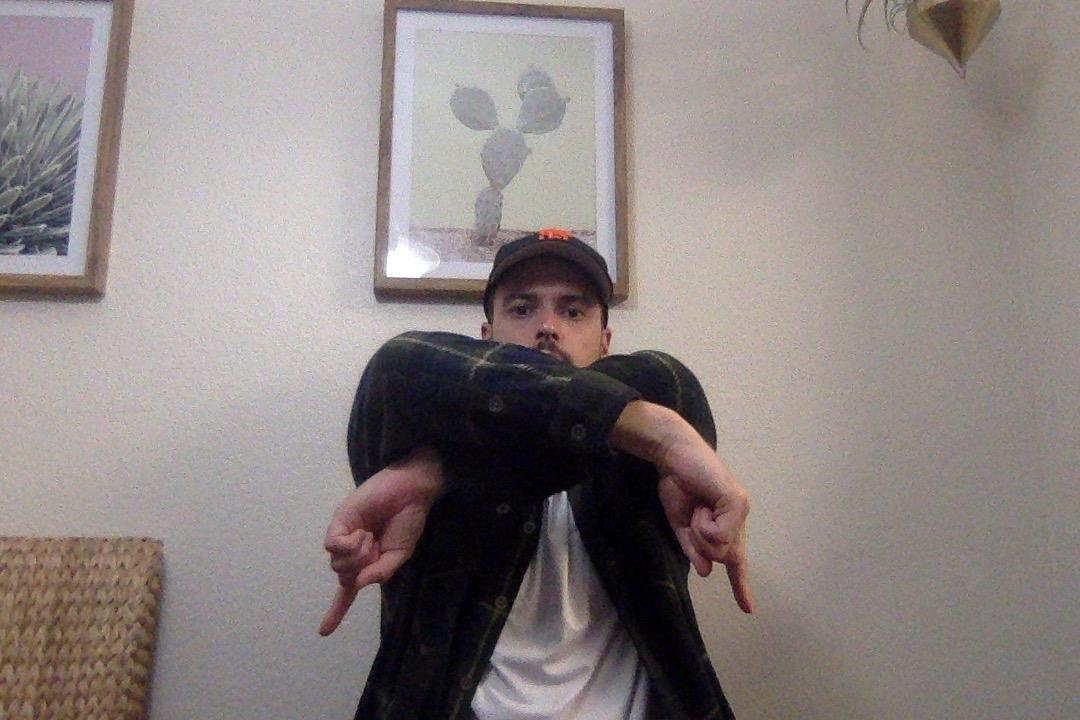Point-Down: (617, 402, 761, 617), (315, 462, 446, 640)
